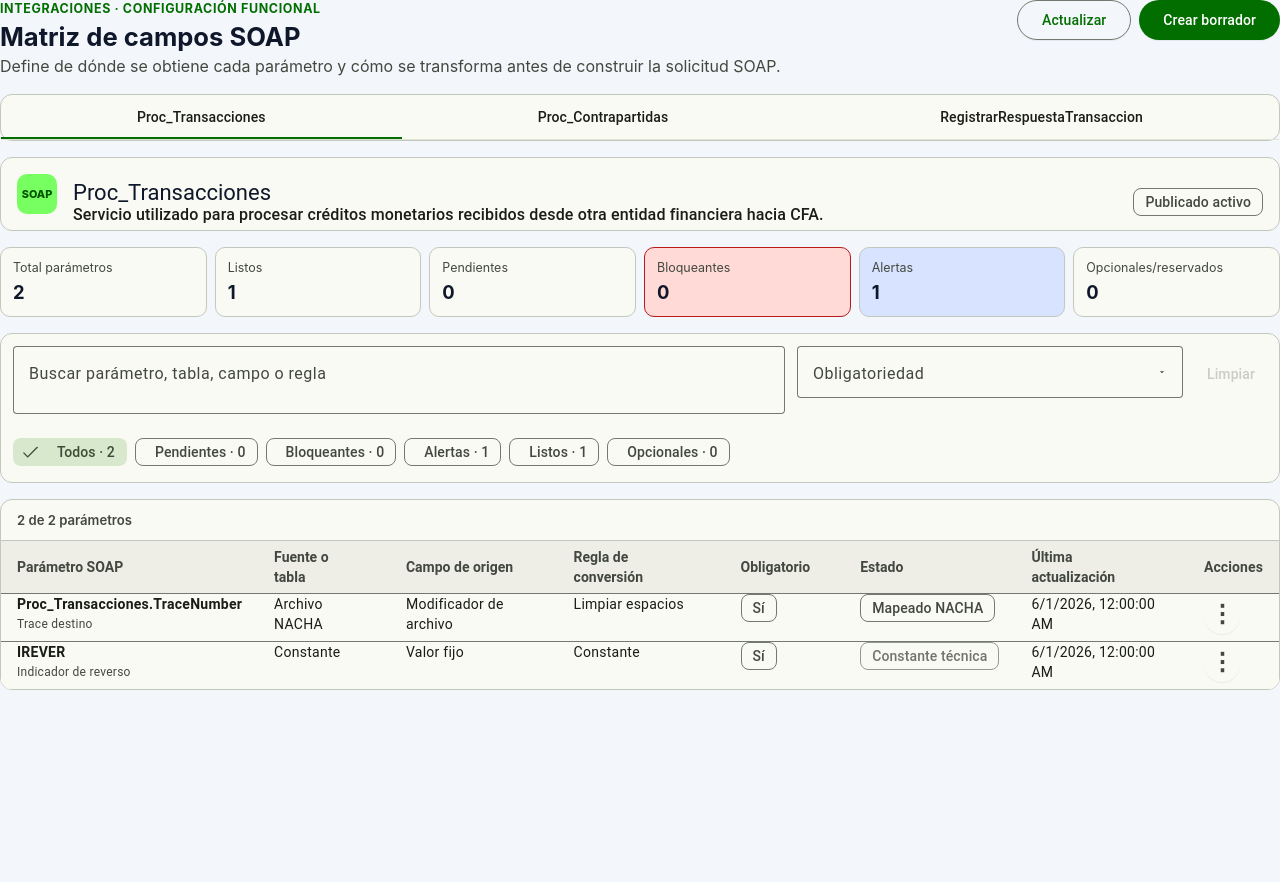
Test case: MappingSetsPageComponent › clasifica DifferentialResponse como fuente valida para RegistrarRespuestaTransaccion
This screenshot has width=1280, height=882.
Click the tab with test id "soap-service-option" at (1042, 117), box [940, 109, 1143, 125]
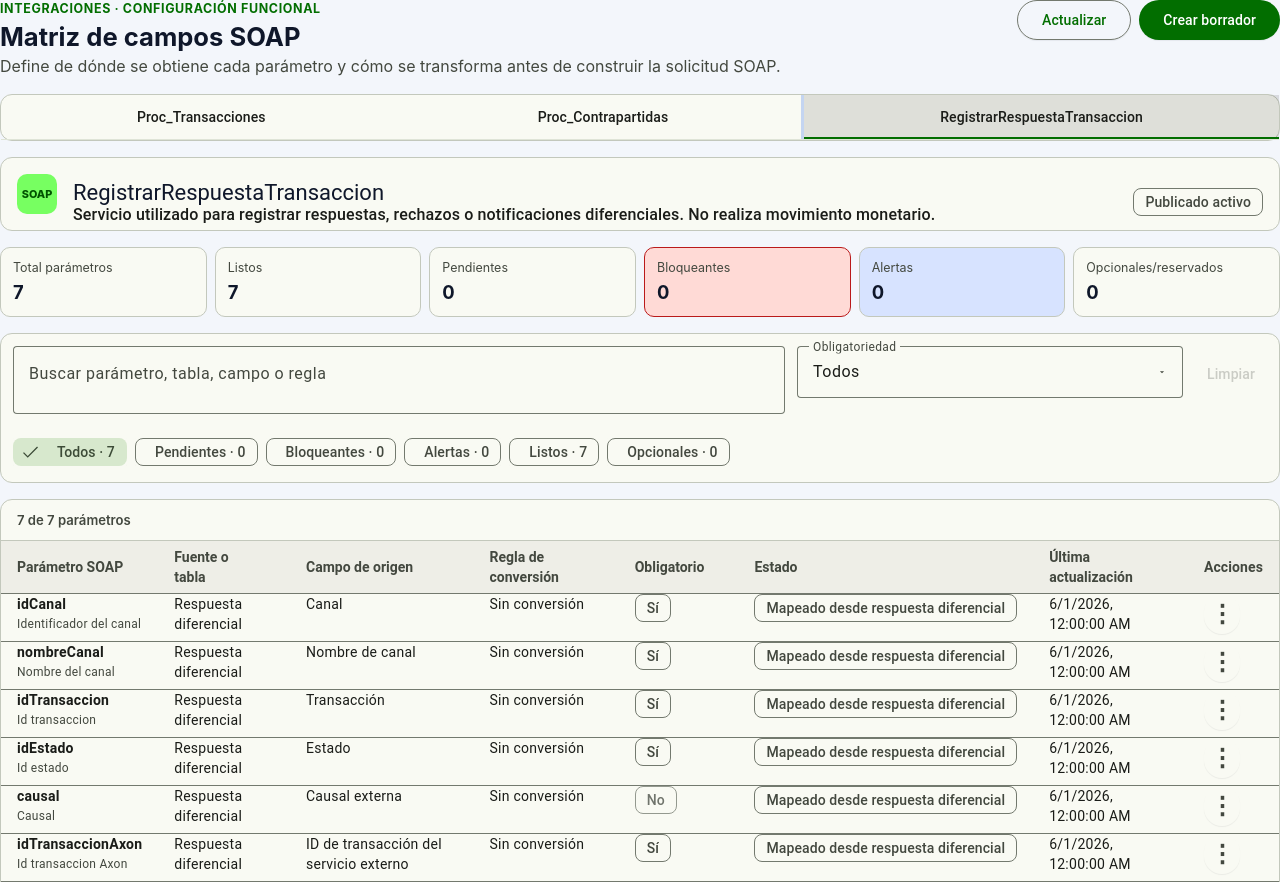
expect the row with test id "mapping-matrix-row" shows "Respuesta diferencial": met, box [174, 740, 242, 776]
expect the row with test id "mapping-matrix-row" shows "Estado": met, box [306, 740, 351, 756]
expect the row with test id "mapping-matrix-row" shows "Mapeado desde respuesta diferencial": met, box [766, 744, 1005, 760]
